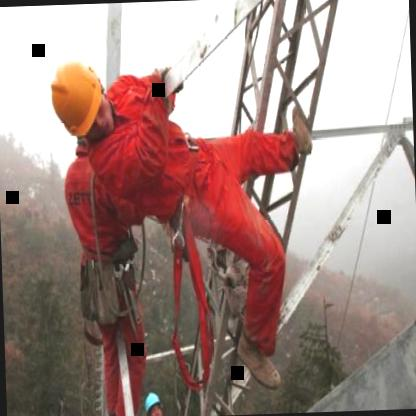helmet: (40, 50, 114, 150), (144, 386, 164, 416)
